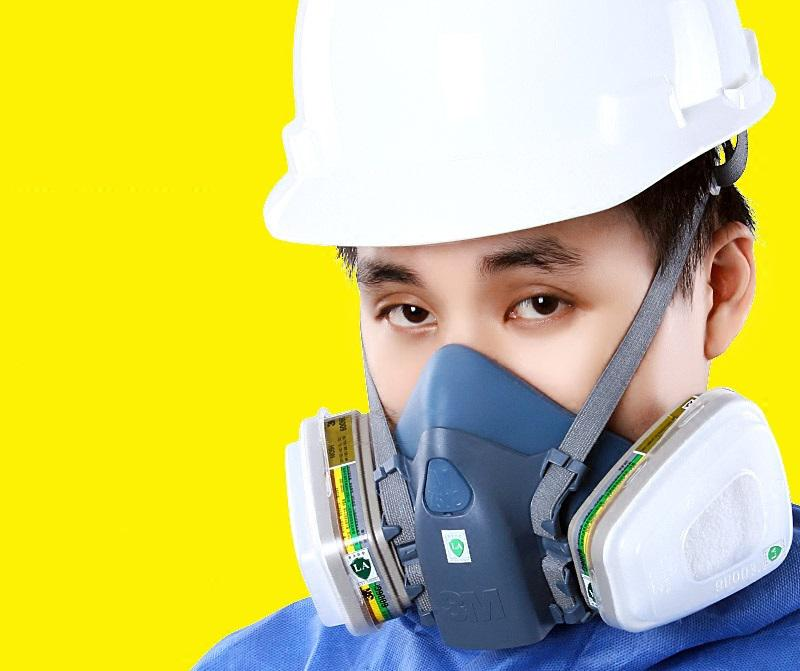OK: (355, 219, 708, 584)
